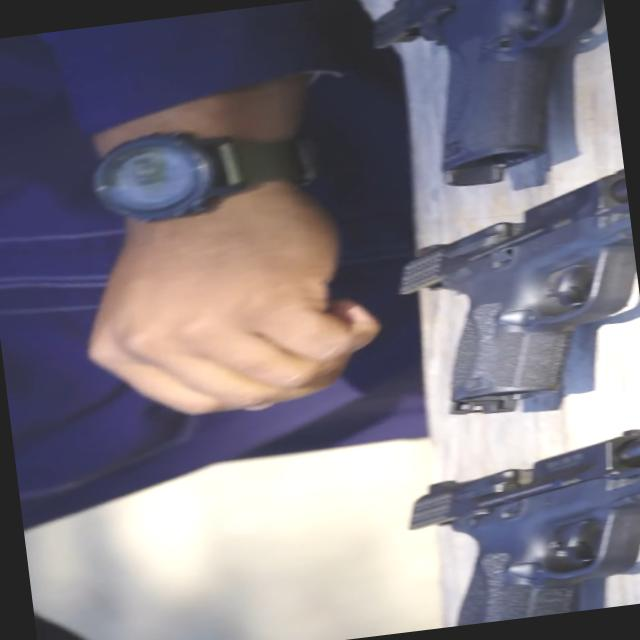handgun: (366, 160, 639, 438), (364, 418, 639, 634), (343, 0, 624, 206)
